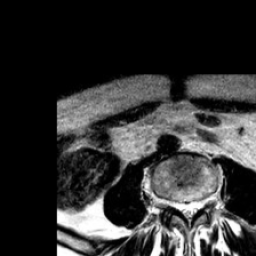CCS_normal: (184, 192, 192, 232)
LFS_normal: (199, 187, 206, 217)
LLS_normal: (192, 192, 199, 223)
RFS_normal: (170, 190, 176, 218)
RLS_normal: (176, 192, 184, 220)
